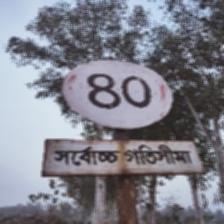Speed-limit: (41, 58, 201, 178)
